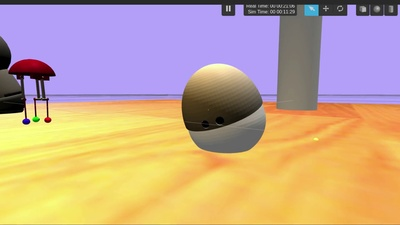mira_robot: (183, 63, 267, 154)
